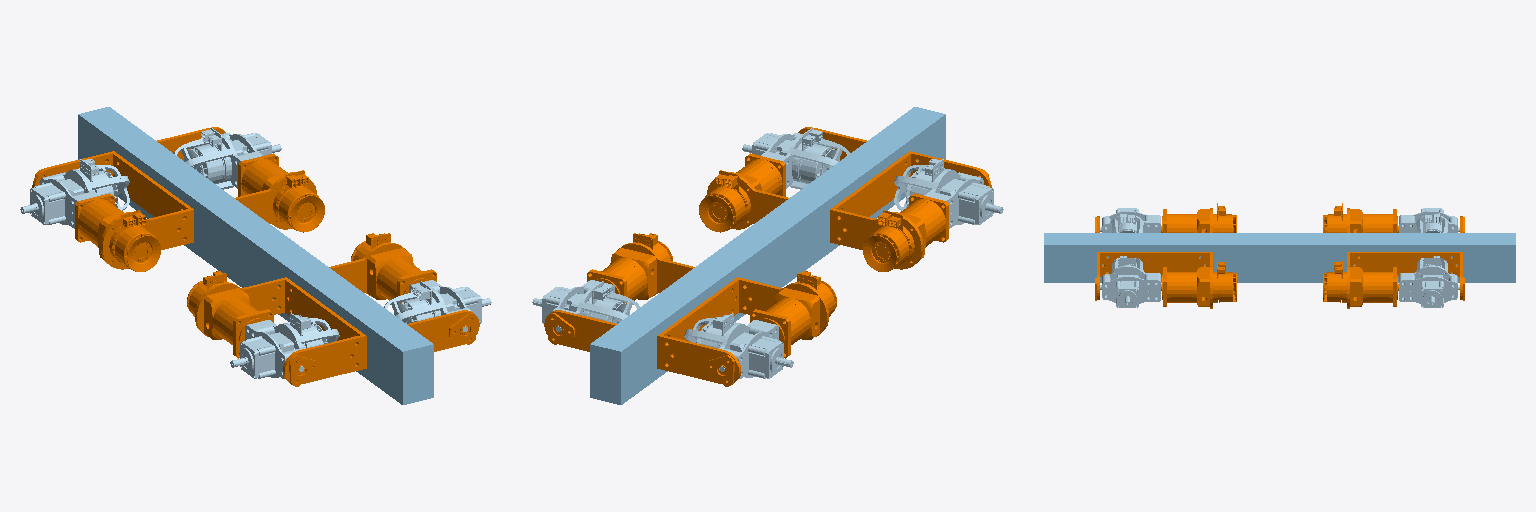
robot.urdf — quadruped:
<?xml version="1.0" ?>
<!-- Generated using onshape-to-robot -->
<!-- Onshape https://cad.onshape.com/documents/15c938082851fbd4bacdce98/w/82abc59e7a8e49fa89bdf240/e/9f4f825e3a3641eef6d18c36 -->
<robot name="quadruped">
  <!-- Link part_1 -->
  <link name="part_1">
    <inertial>
      <origin xyz="8.63091e-18 1.15079e-17 0.00011318" rpy="0 0 0"/>
      <mass value="19.295"/>
      <inertia ixx="1.03366" ixy="-1.69608e-08" ixz="9.08697e-18" iyy="0.143613" iyz="5.87841e-19" izz="1.16138"/>
    </inertial>
    <!-- Part bodysectiona -->
    <visual>
      <origin xyz="0.181 0.291 4.26742e-16" rpy="-6.03533e-16 -5.41668e-33 1.5708"/>
      <geometry>
        <mesh filename="package://assets/bodysectiona.stl"/>
      </geometry>
      <material name="bodysectiona_material">
        <color rgba="0.972549 0.529412 0.00392157 1.0"/>
      </material>
    </visual>
    <collision>
      <origin xyz="0.181 0.291 4.26742e-16" rpy="-6.03533e-16 -5.41668e-33 1.5708"/>
      <geometry>
        <mesh filename="package://assets/bodysectiona.stl"/>
      </geometry>
    </collision>
    <!-- Part part_1 -->
    <visual>
      <origin xyz="0 0 0" rpy="0 -0 0"/>
      <geometry>
        <mesh filename="package://assets/part_1.stl"/>
      </geometry>
      <material name="part_1_material">
        <color rgba="0.615686 0.811765 0.929412 1.0"/>
      </material>
    </visual>
    <collision>
      <origin xyz="0 0 0" rpy="0 -0 0"/>
      <geometry>
        <mesh filename="package://assets/part_1.stl"/>
      </geometry>
    </collision>
    <!-- Part bodysectionb -->
    <visual>
      <origin xyz="-0.131 -0.291 4.54498e-16" rpy="-7.77005e-16 5.41668e-33 -1.5708"/>
      <geometry>
        <mesh filename="package://assets/bodysectionb.stl"/>
      </geometry>
      <material name="bodysectionb_material">
        <color rgba="0.972549 0.529412 0.00392157 1.0"/>
      </material>
    </visual>
    <collision>
      <origin xyz="-0.131 -0.291 4.54498e-16" rpy="-7.77005e-16 5.41668e-33 -1.5708"/>
      <geometry>
        <mesh filename="package://assets/bodysectionb.stl"/>
      </geometry>
    </collision>
    <!-- Part bodysectionb_2 -->
    <visual>
      <origin xyz="0.131 0.291 4.26742e-16" rpy="-6.03533e-16 -5.41668e-33 1.5708"/>
      <geometry>
        <mesh filename="package://assets/bodysectionb.stl"/>
      </geometry>
      <material name="bodysectionb_2_material">
        <color rgba="0.972549 0.529412 0.00392157 1.0"/>
      </material>
    </visual>
    <collision>
      <origin xyz="0.131 0.291 4.26742e-16" rpy="-6.03533e-16 -5.41668e-33 1.5708"/>
      <geometry>
        <mesh filename="package://assets/bodysectionb.stl"/>
      </geometry>
    </collision>
    <!-- Part bodysectiona_2 -->
    <visual>
      <origin xyz="-0.181 -0.291 4.54498e-16" rpy="-7.77005e-16 5.41668e-33 -1.5708"/>
      <geometry>
        <mesh filename="package://assets/bodysectiona.stl"/>
      </geometry>
      <material name="bodysectiona_2_material">
        <color rgba="0.972549 0.529412 0.00392157 1.0"/>
      </material>
    </visual>
    <collision>
      <origin xyz="-0.181 -0.291 4.54498e-16" rpy="-7.77005e-16 5.41668e-33 -1.5708"/>
      <geometry>
        <mesh filename="package://assets/bodysectiona.stl"/>
      </geometry>
    </collision>
  </link>
  <!-- Link coxamergel -->
  <link name="coxamergel">
    <inertial>
      <origin xyz="-0.0100851 -0.000391481 -0.0598052" rpy="0 0 0"/>
      <mass value="1.5"/>
      <inertia ixx="0.00120555" ixy="-1.25099e-05" ixz="-5.55819e-05" iyy="0.00233404" iyz="-2.2868e-06" izz="0.00180944"/>
    </inertial>
    <!-- Part coxamergel -->
    <visual>
      <origin xyz="0.05 -5.73847e-16 -0.0635" rpy="1.5708 1.5708 0"/>
      <geometry>
        <mesh filename="package://assets/coxamergel.stl"/>
      </geometry>
      <material name="coxamergel_material">
        <color rgba="0.768627 0.886275 0.952941 1.0"/>
      </material>
    </visual>
    <collision>
      <origin xyz="0.05 -5.73847e-16 -0.0635" rpy="1.5708 1.5708 0"/>
      <geometry>
        <mesh filename="package://assets/coxamergel.stl"/>
      </geometry>
    </collision>
  </link>
  <!-- Link femurmergel -->
  <link name="femurmergel">
    <inertial>
      <origin xyz="0.0751519 0.00032822 -0.0593829" rpy="0 0 0"/>
      <mass value="1.952"/>
      <inertia ixx="0.00139318" ixy="-0.000264556" ixz="0.000687157" iyy="0.0276116" iyz="2.92843e-06" izz="0.0271576"/>
    </inertial>
    <!-- Part femurmergel -->
    <visual>
      <origin xyz="-1.66533e-16 -2.70617e-16 0.005" rpy="-1.5708 -1.80753e-16 2.37235"/>
      <geometry>
        <mesh filename="package://assets/femurmergel.stl"/>
      </geometry>
      <material name="femurmergel_material">
        <color rgba="0.917647 0.917647 0.917647 1.0"/>
      </material>
    </visual>
    <collision>
      <origin xyz="-1.66533e-16 -2.70617e-16 0.005" rpy="-1.5708 -1.80753e-16 2.37235"/>
      <geometry>
        <mesh filename="package://assets/femurmergel.stl"/>
      </geometry>
    </collision>
  </link>
  <!-- Link tibiamerger -->
  <link name="tibiamerger">
    <inertial>
      <origin xyz="0.201195 0.00272963 -0.0159512" rpy="0 0 0"/>
      <mass value="0.22"/>
      <inertia ixx="5.51361e-05" ixy="-0.000152057" ixz="1.05475e-09" iyy="0.00533523" iyz="2.98345e-08" izz="0.00534053"/>
    </inertial>
    <!-- Part tibiamerger -->
    <visual>
      <origin xyz="-0.0160231 -0.370248 0.053" rpy="1.5708 4.16327e-14 -0.77729"/>
      <geometry>
        <mesh filename="package://assets/tibiamerger.stl"/>
      </geometry>
      <material name="tibiamerger_material">
        <color rgba="0.231373 0.380392 0.705882 1.0"/>
      </material>
    </visual>
    <collision>
      <origin xyz="-0.0160231 -0.370248 0.053" rpy="1.5708 4.16327e-14 -0.77729"/>
      <geometry>
        <mesh filename="package://assets/tibiamerger.stl"/>
      </geometry>
    </collision>
  </link>
  <!-- Joint from femurmergel to tibiamerger -->
  <joint name="FL_KneeFE" type="revolute">
    <origin xyz="0.36975 0.025 -0.08" rpy="3.14159 -3.71545e-17 0.115841"/>
    <parent link="femurmergel"/>
    <child link="tibiamerger"/>
    <axis xyz="0 0 1"/>
    <limit effort="10" velocity="10" lower="-0.450392" upper="2.72142"/>
  </joint>
  <!-- Joint from coxamergel to femurmergel -->
  <joint name="FL_HipFE" type="revolute">
    <origin xyz="0.055 -6.48425e-15 -0.0635" rpy="1.5708 -1.50329 -1.5708"/>
    <parent link="coxamergel"/>
    <child link="femurmergel"/>
    <axis xyz="0 0 1"/>
    <limit effort="10" velocity="10" lower="-0.456088" upper="3.7327"/>
  </joint>
  <!-- Joint from part_1 to coxamergel -->
  <joint name="FL_HipAA" type="revolute">
    <origin xyz="-0.131 0.2275 4.72203e-17" rpy="-1.5708 6.03533e-16 -3.14159"/>
    <parent link="part_1"/>
    <child link="coxamergel"/>
    <axis xyz="0 0 1"/>
    <limit effort="10" velocity="10" lower="-1.0472" upper="1.0472"/>
  </joint>
  <!-- Link coxamerger -->
  <link name="coxamerger">
    <inertial>
      <origin xyz="0.0100851 -0.000391481 -0.0598052" rpy="0 0 0"/>
      <mass value="1.5"/>
      <inertia ixx="0.00120555" ixy="1.25099e-05" ixz="5.55819e-05" iyy="0.00233404" iyz="-2.28685e-06" izz="0.00180944"/>
    </inertial>
    <!-- Part coxamerger -->
    <visual>
      <origin xyz="-0.05 -5.73847e-16 -0.0635" rpy="1.5708 1.5708 0"/>
      <geometry>
        <mesh filename="package://assets/coxamerger.stl"/>
      </geometry>
      <material name="coxamerger_material">
        <color rgba="0.768627 0.886275 0.952941 1.0"/>
      </material>
    </visual>
    <collision>
      <origin xyz="-0.05 -5.73847e-16 -0.0635" rpy="1.5708 1.5708 0"/>
      <geometry>
        <mesh filename="package://assets/coxamerger.stl"/>
      </geometry>
    </collision>
  </link>
  <!-- Link femurmerger -->
  <link name="femurmerger">
    <inertial>
      <origin xyz="0.0751519 -0.00032822 -0.0593829" rpy="0 0 0"/>
      <mass value="1.952"/>
      <inertia ixx="0.00139318" ixy="0.000264557" ixz="0.000687157" iyy="0.0276116" iyz="-2.92829e-06" izz="0.0271576"/>
    </inertial>
    <!-- Part femurmerger -->
    <visual>
      <origin xyz="-2.77556e-16 2.70617e-16 0.005" rpy="1.5708 -1.80753e-16 -2.37235"/>
      <geometry>
        <mesh filename="package://assets/femurmerger.stl"/>
      </geometry>
      <material name="femurmerger_material">
        <color rgba="0.917647 0.917647 0.917647 1.0"/>
      </material>
    </visual>
    <collision>
      <origin xyz="-2.77556e-16 2.70617e-16 0.005" rpy="1.5708 -1.80753e-16 -2.37235"/>
      <geometry>
        <mesh filename="package://assets/femurmerger.stl"/>
      </geometry>
    </collision>
  </link>
  <!-- Link tibiamerger_2 -->
  <link name="tibiamerger_2">
    <inertial>
      <origin xyz="0.201195 -0.00272963 -0.0160488" rpy="0 0 0"/>
      <mass value="0.22"/>
      <inertia ixx="5.51361e-05" ixy="0.000152057" ixz="-1.05475e-09" iyy="0.00533523" iyz="2.98345e-08" izz="0.00534053"/>
    </inertial>
    <!-- Part tibiamerger_2 -->
    <visual>
      <origin xyz="-0.0160231 0.370248 -0.085" rpy="-1.5708 -4.16482e-14 0.77729"/>
      <geometry>
        <mesh filename="package://assets/tibiamerger.stl"/>
      </geometry>
      <material name="tibiamerger_2_material">
        <color rgba="0.231373 0.380392 0.705882 1.0"/>
      </material>
    </visual>
    <collision>
      <origin xyz="-0.0160231 0.370248 -0.085" rpy="-1.5708 -4.16482e-14 0.77729"/>
      <geometry>
        <mesh filename="package://assets/tibiamerger.stl"/>
      </geometry>
    </collision>
  </link>
  <!-- Joint from femurmerger to tibiamerger_2 -->
  <joint name="FR_KneeFE" type="revolute">
    <origin xyz="0.36975 -0.025 -0.08" rpy="3.14159 -3.90028e-15 -0.115841"/>
    <parent link="femurmerger"/>
    <child link="tibiamerger_2"/>
    <axis xyz="0 0 1"/>
    <limit effort="10" velocity="10" lower="-2.72142" upper="0.450392"/>
  </joint>
  <!-- Joint from coxamerger to femurmerger -->
  <joint name="FR_HipFE" type="revolute">
    <origin xyz="-0.055 -6.53411e-15 -0.0635" rpy="-1.5708 -1.50329 -1.5708"/>
    <parent link="coxamerger"/>
    <child link="femurmerger"/>
    <axis xyz="0 0 1"/>
    <limit effort="10" velocity="10" lower="-3.7327" upper="0.456088"/>
  </joint>
  <!-- Joint from part_1 to coxamerger -->
  <joint name="FR_HipAA" type="revolute">
    <origin xyz="0.131 0.2275 2.8804e-17" rpy="-1.5708 -1.11228e-13 3.14159"/>
    <parent link="part_1"/>
    <child link="coxamerger"/>
    <axis xyz="0 0 1"/>
    <limit effort="10" velocity="10" lower="-1.0472" upper="1.0472"/>
  </joint>
  <!-- Link coxamerger_2 -->
  <link name="coxamerger_2">
    <inertial>
      <origin xyz="0.0100851 -0.000391481 -0.0598052" rpy="0 0 0"/>
      <mass value="1.5"/>
      <inertia ixx="0.00120555" ixy="1.25099e-05" ixz="5.55819e-05" iyy="0.00233404" iyz="-2.28685e-06" izz="0.00180944"/>
    </inertial>
    <!-- Part coxamerger_2 -->
    <visual>
      <origin xyz="-0.05 -5.73847e-16 -0.0635" rpy="1.5708 1.5708 0"/>
      <geometry>
        <mesh filename="package://assets/coxamerger.stl"/>
      </geometry>
      <material name="coxamerger_2_material">
        <color rgba="0.768627 0.886275 0.952941 1.0"/>
      </material>
    </visual>
    <collision>
      <origin xyz="-0.05 -5.73847e-16 -0.0635" rpy="1.5708 1.5708 0"/>
      <geometry>
        <mesh filename="package://assets/coxamerger.stl"/>
      </geometry>
    </collision>
  </link>
  <!-- Link femurmergel_2 -->
  <link name="femurmergel_2">
    <inertial>
      <origin xyz="0.0751519 0.00032822 -0.0593829" rpy="0 0 0"/>
      <mass value="1.952"/>
      <inertia ixx="0.00139318" ixy="-0.000264556" ixz="0.000687157" iyy="0.0276116" iyz="2.92843e-06" izz="0.0271576"/>
    </inertial>
    <!-- Part femurmergel_2 -->
    <visual>
      <origin xyz="-2.77556e-16 -2.74086e-16 0.005" rpy="-1.5708 -1.80753e-16 2.37235"/>
      <geometry>
        <mesh filename="package://assets/femurmergel.stl"/>
      </geometry>
      <material name="femurmergel_2_material">
        <color rgba="0.917647 0.917647 0.917647 1.0"/>
      </material>
    </visual>
    <collision>
      <origin xyz="-2.77556e-16 -2.74086e-16 0.005" rpy="-1.5708 -1.80753e-16 2.37235"/>
      <geometry>
        <mesh filename="package://assets/femurmergel.stl"/>
      </geometry>
    </collision>
  </link>
  <!-- Link tibiamerger_3 -->
  <link name="tibiamerger_3">
    <inertial>
      <origin xyz="0.201195 0.00272963 -0.0159512" rpy="0 0 0"/>
      <mass value="0.22"/>
      <inertia ixx="5.51361e-05" ixy="-0.000152057" ixz="1.05475e-09" iyy="0.00533523" iyz="2.98345e-08" izz="0.00534053"/>
    </inertial>
    <!-- Part tibiamerger_3 -->
    <visual>
      <origin xyz="-0.0160231 -0.370248 0.053" rpy="1.5708 4.16327e-14 -0.77729"/>
      <geometry>
        <mesh filename="package://assets/tibiamerger.stl"/>
      </geometry>
      <material name="tibiamerger_3_material">
        <color rgba="0.231373 0.380392 0.705882 1.0"/>
      </material>
    </visual>
    <collision>
      <origin xyz="-0.0160231 -0.370248 0.053" rpy="1.5708 4.16327e-14 -0.77729"/>
      <geometry>
        <mesh filename="package://assets/tibiamerger.stl"/>
      </geometry>
    </collision>
  </link>
  <!-- Joint from femurmergel_2 to tibiamerger_3 -->
  <joint name="BL_KneeFE" type="revolute">
    <origin xyz="0.36975 0.025 -0.08" rpy="3.14159 8.90167e-15 0.115841"/>
    <parent link="femurmergel_2"/>
    <child link="tibiamerger_3"/>
    <axis xyz="0 0 1"/>
    <limit effort="10" velocity="10" lower="-0.450392" upper="2.72142"/>
  </joint>
  <!-- Joint from coxamerger_2 to femurmergel_2 -->
  <joint name="BL_HipFE" type="revolute">
    <origin xyz="-0.055 -6.54025e-15 -0.0635" rpy="-1.5708 1.50329 -1.5708"/>
    <parent link="coxamerger_2"/>
    <child link="femurmergel_2"/>
    <axis xyz="0 0 1"/>
    <limit effort="10" velocity="10" lower="-0.456088" upper="3.7327"/>
  </joint>
  <!-- Joint from part_1 to coxamerger_2 -->
  <joint name="BL_HipAA" type="revolute">
    <origin xyz="-0.131 -0.2275 4.50143e-17" rpy="-1.5708 -1.09497e-13 -8.32667e-17"/>
    <parent link="part_1"/>
    <child link="coxamerger_2"/>
    <axis xyz="0 0 1"/>
    <limit effort="10" velocity="10" lower="-1.0472" upper="1.0472"/>
  </joint>
  <!-- Link coxamergel_2 -->
  <link name="coxamergel_2">
    <inertial>
      <origin xyz="-0.0100851 -0.000391481 -0.0598052" rpy="0 0 0"/>
      <mass value="1.5"/>
      <inertia ixx="0.00120555" ixy="-1.25099e-05" ixz="-5.55819e-05" iyy="0.00233404" iyz="-2.2868e-06" izz="0.00180944"/>
    </inertial>
    <!-- Part coxamergel_2 -->
    <visual>
      <origin xyz="0.05 -5.73847e-16 -0.0635" rpy="1.5708 1.5708 0"/>
      <geometry>
        <mesh filename="package://assets/coxamergel.stl"/>
      </geometry>
      <material name="coxamergel_2_material">
        <color rgba="0.768627 0.886275 0.952941 1.0"/>
      </material>
    </visual>
    <collision>
      <origin xyz="0.05 -5.73847e-16 -0.0635" rpy="1.5708 1.5708 0"/>
      <geometry>
        <mesh filename="package://assets/coxamergel.stl"/>
      </geometry>
    </collision>
  </link>
  <!-- Link femurmerger_2 -->
  <link name="femurmerger_2">
    <inertial>
      <origin xyz="0.0751519 -0.00032822 -0.0593829" rpy="0 0 0"/>
      <mass value="1.952"/>
      <inertia ixx="0.00139318" ixy="0.000264557" ixz="0.000687157" iyy="0.0276116" iyz="-2.92829e-06" izz="0.0271576"/>
    </inertial>
    <!-- Part femurmerger_2 -->
    <visual>
      <origin xyz="-2.77556e-16 2.74086e-16 0.005" rpy="1.5708 -1.80753e-16 -2.37235"/>
      <geometry>
        <mesh filename="package://assets/femurmerger.stl"/>
      </geometry>
      <material name="femurmerger_2_material">
        <color rgba="0.917647 0.917647 0.917647 1.0"/>
      </material>
    </visual>
    <collision>
      <origin xyz="-2.77556e-16 2.74086e-16 0.005" rpy="1.5708 -1.80753e-16 -2.37235"/>
      <geometry>
        <mesh filename="package://assets/femurmerger.stl"/>
      </geometry>
    </collision>
  </link>
  <!-- Link tibiamerger_4 -->
  <link name="tibiamerger_4">
    <inertial>
      <origin xyz="0.201195 -0.00272963 -0.0160488" rpy="0 0 0"/>
      <mass value="0.22"/>
      <inertia ixx="5.51361e-05" ixy="0.000152057" ixz="-1.05475e-09" iyy="0.00533523" iyz="2.98345e-08" izz="0.00534053"/>
    </inertial>
    <!-- Part tibiamerger_4 -->
    <visual>
      <origin xyz="-0.0160231 0.370248 -0.085" rpy="-1.5708 -4.16482e-14 0.77729"/>
      <geometry>
        <mesh filename="package://assets/tibiamerger.stl"/>
      </geometry>
      <material name="tibiamerger_4_material">
        <color rgba="0.231373 0.380392 0.705882 1.0"/>
      </material>
    </visual>
    <collision>
      <origin xyz="-0.0160231 0.370248 -0.085" rpy="-1.5708 -4.16482e-14 0.77729"/>
      <geometry>
        <mesh filename="package://assets/tibiamerger.stl"/>
      </geometry>
    </collision>
  </link>
  <!-- Joint from femurmerger_2 to tibiamerger_4 -->
  <joint name="BR_KneeFE" type="revolute">
    <origin xyz="0.36975 -0.025 -0.08" rpy="3.14159 -3.74759e-15 -0.115841"/>
    <parent link="femurmerger_2"/>
    <child link="tibiamerger_4"/>
    <axis xyz="0 0 1"/>
    <limit effort="10" velocity="10" lower="-2.72142" upper="0.450392"/>
  </joint>
  <!-- Joint from coxamergel_2 to femurmerger_2 -->
  <joint name="BR_HipFE" type="revolute">
    <origin xyz="0.055 -6.53411e-15 -0.0635" rpy="1.5708 1.50329 -1.5708"/>
    <parent link="coxamergel_2"/>
    <child link="femurmerger_2"/>
    <axis xyz="0 0 1"/>
    <limit effort="10" velocity="10" lower="-3.7327" upper="0.456088"/>
  </joint>
  <!-- Joint from part_1 to coxamergel_2 -->
  <joint name="BR_HipAA" type="revolute">
    <origin xyz="0.131 -0.2275 2.94394e-17" rpy="-1.5708 7.77005e-16 8.32667e-17"/>
    <parent link="part_1"/>
    <child link="coxamergel_2"/>
    <axis xyz="0 0 1"/>
    <limit effort="10" velocity="10" lower="-1.0472" upper="1.0472"/>
  </joint>
</robot>

--- Facts derived from the render (not from the file) ---
3 views of the same robot in one strip: view 1: azimuth 30°, elevation 25°; view 2: azimuth 150°, elevation 25°; view 3: azimuth 270°, elevation 25° (orthographic).
Robot: quadruped — 13 links, 12 joints (12 revolute); root link part_1; default pose: every joint at zero.
Links seen in each view (by area): view 1: part_1, coxamergel, coxamerger_2, coxamerger, coxamergel_2; view 2: part_1, coxamerger_2, coxamergel, coxamergel_2, coxamerger; view 3: part_1, coxamerger, coxamergel_2, coxamergel, coxamerger_2.
Boxes of the visible links, <box> form: part_1: <box>32,107,479,404</box>; coxamergel: <box>20,159,129,228</box>; coxamerger_2: <box>230,313,339,378</box>; coxamerger: <box>173,127,281,189</box>; coxamergel_2: <box>384,280,491,331</box>; part_1: <box>544,107,991,404</box>; coxamerger_2: <box>894,159,1003,228</box>; coxamergel: <box>684,313,793,378</box>; coxamergel_2: <box>742,127,850,189</box>; coxamerger: <box>532,280,639,331</box>; part_1: <box>1044,203,1515,308</box>; coxamerger: <box>1399,256,1459,307</box>; coxamergel_2: <box>1100,256,1160,307</box>; coxamergel: <box>1399,208,1459,232</box>; coxamerger_2: <box>1100,208,1160,232</box>.
Size in the robot's own frame: 0.412 by 0.9 by 0.09 metres.
Meshes: 8 distinct files referenced, 9 mesh visuals loaded (5 binary STL); not drawn: 8 (reference not matched to a file when rendering).
